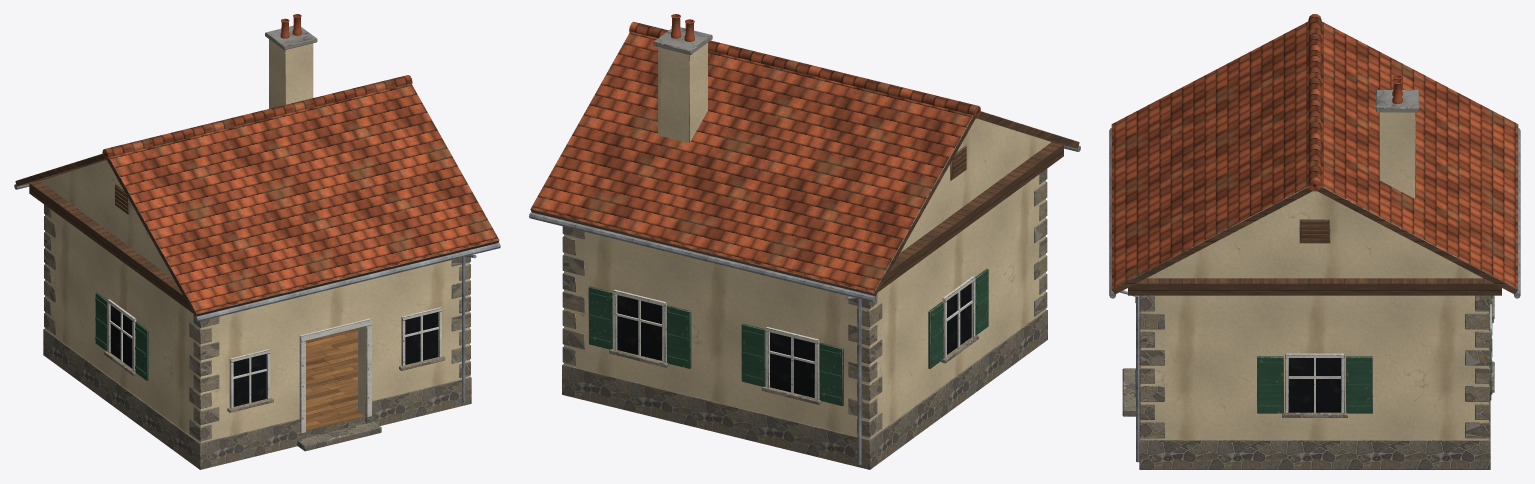
The model's file is house_a.glb.
The picture shows the model from 3 angles, left to right: view 1: azimuth 30°, elevation 25°; view 2: azimuth 150°, elevation 25°; view 3: azimuth 270°, elevation 25°; orthographic projection. The views are drawn at different scales.
Visible parts, largest first — view 1: house_a_details, house_a_structure; view 2: house_a_details, house_a_structure; view 3: house_a_details, house_a_structure.
Part boxes in pixels (bbox=[...]): house_a_details: bbox=[14, 14, 500, 469]; house_a_structure: bbox=[29, 181, 469, 442]; house_a_details: bbox=[529, 14, 1080, 469]; house_a_structure: bbox=[564, 142, 1063, 439]; house_a_details: bbox=[1109, 14, 1520, 469]; house_a_structure: bbox=[1128, 278, 1501, 439].
Size of the model in its own units: 9.04 by 9.04 by 9.45.
Materials: 15 (15 with a texture image).
